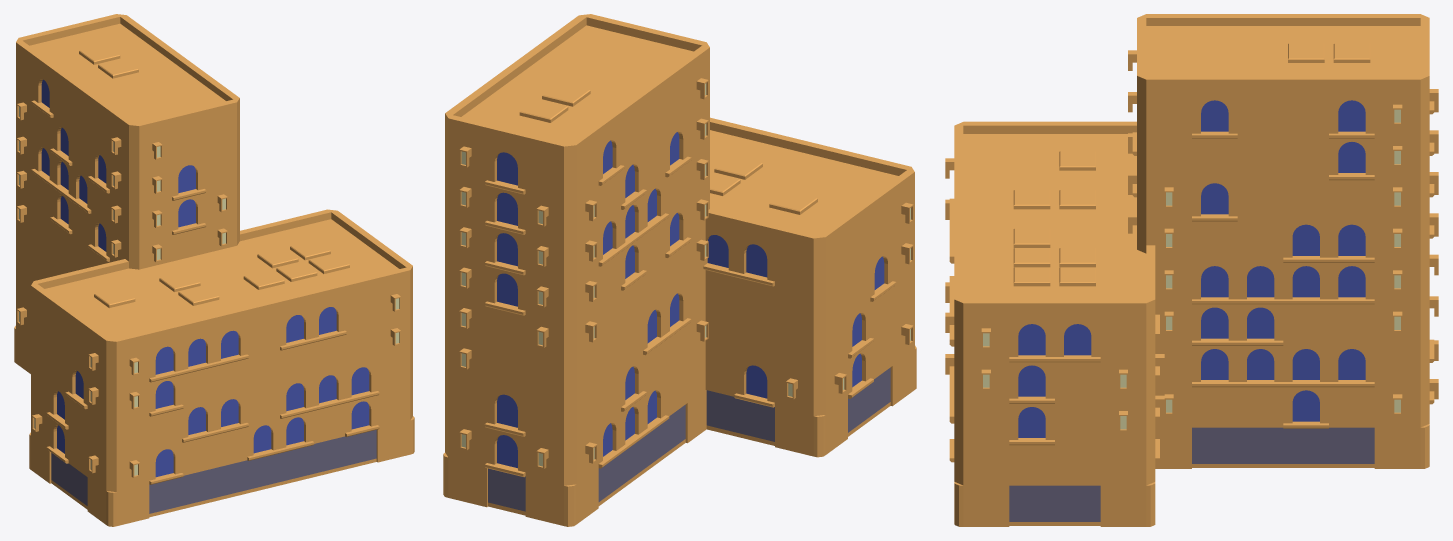
The model's file is house v2.003.fbx.
3 views of the same model, side by side, from view 1: azimuth 30°, elevation 25°; view 2: azimuth 150°, elevation 25°; view 3: azimuth 270°, elevation 25° (orthographic). The views are drawn at different scales.
Parts seen in each view (by area): view 1: House; view 2: House; view 3: House.
Part boxes in pixels (x1=…): House: x1=14, y1=14, x2=414, y2=526; House: x1=443, y1=14, x2=916, y2=526; House: x1=945, y1=14, x2=1438, y2=526.
Size of the model in its own units: 980 by 940 by 1080.
